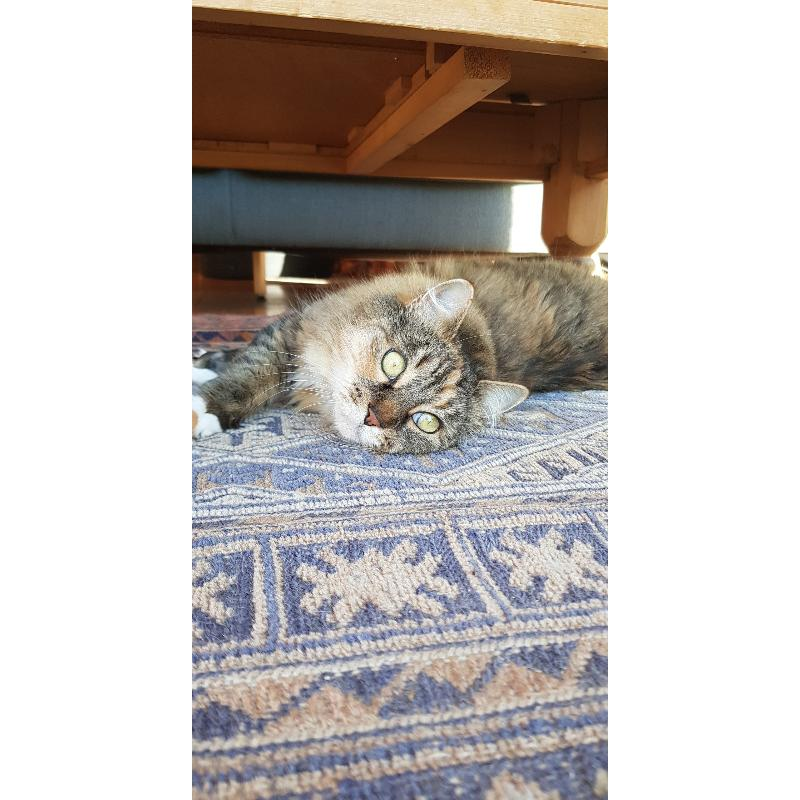yellow: (196, 256, 607, 450)
